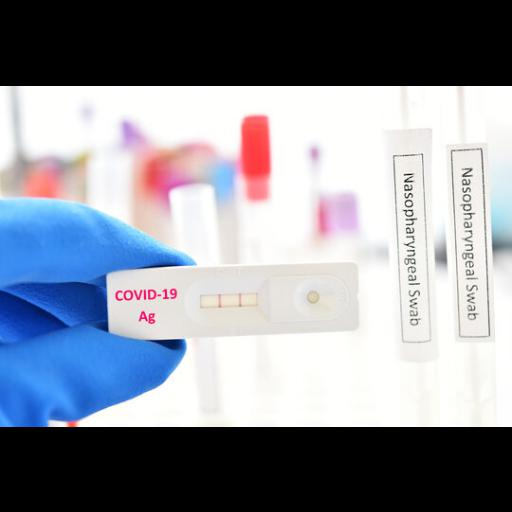Pos: (108, 262, 360, 339)
